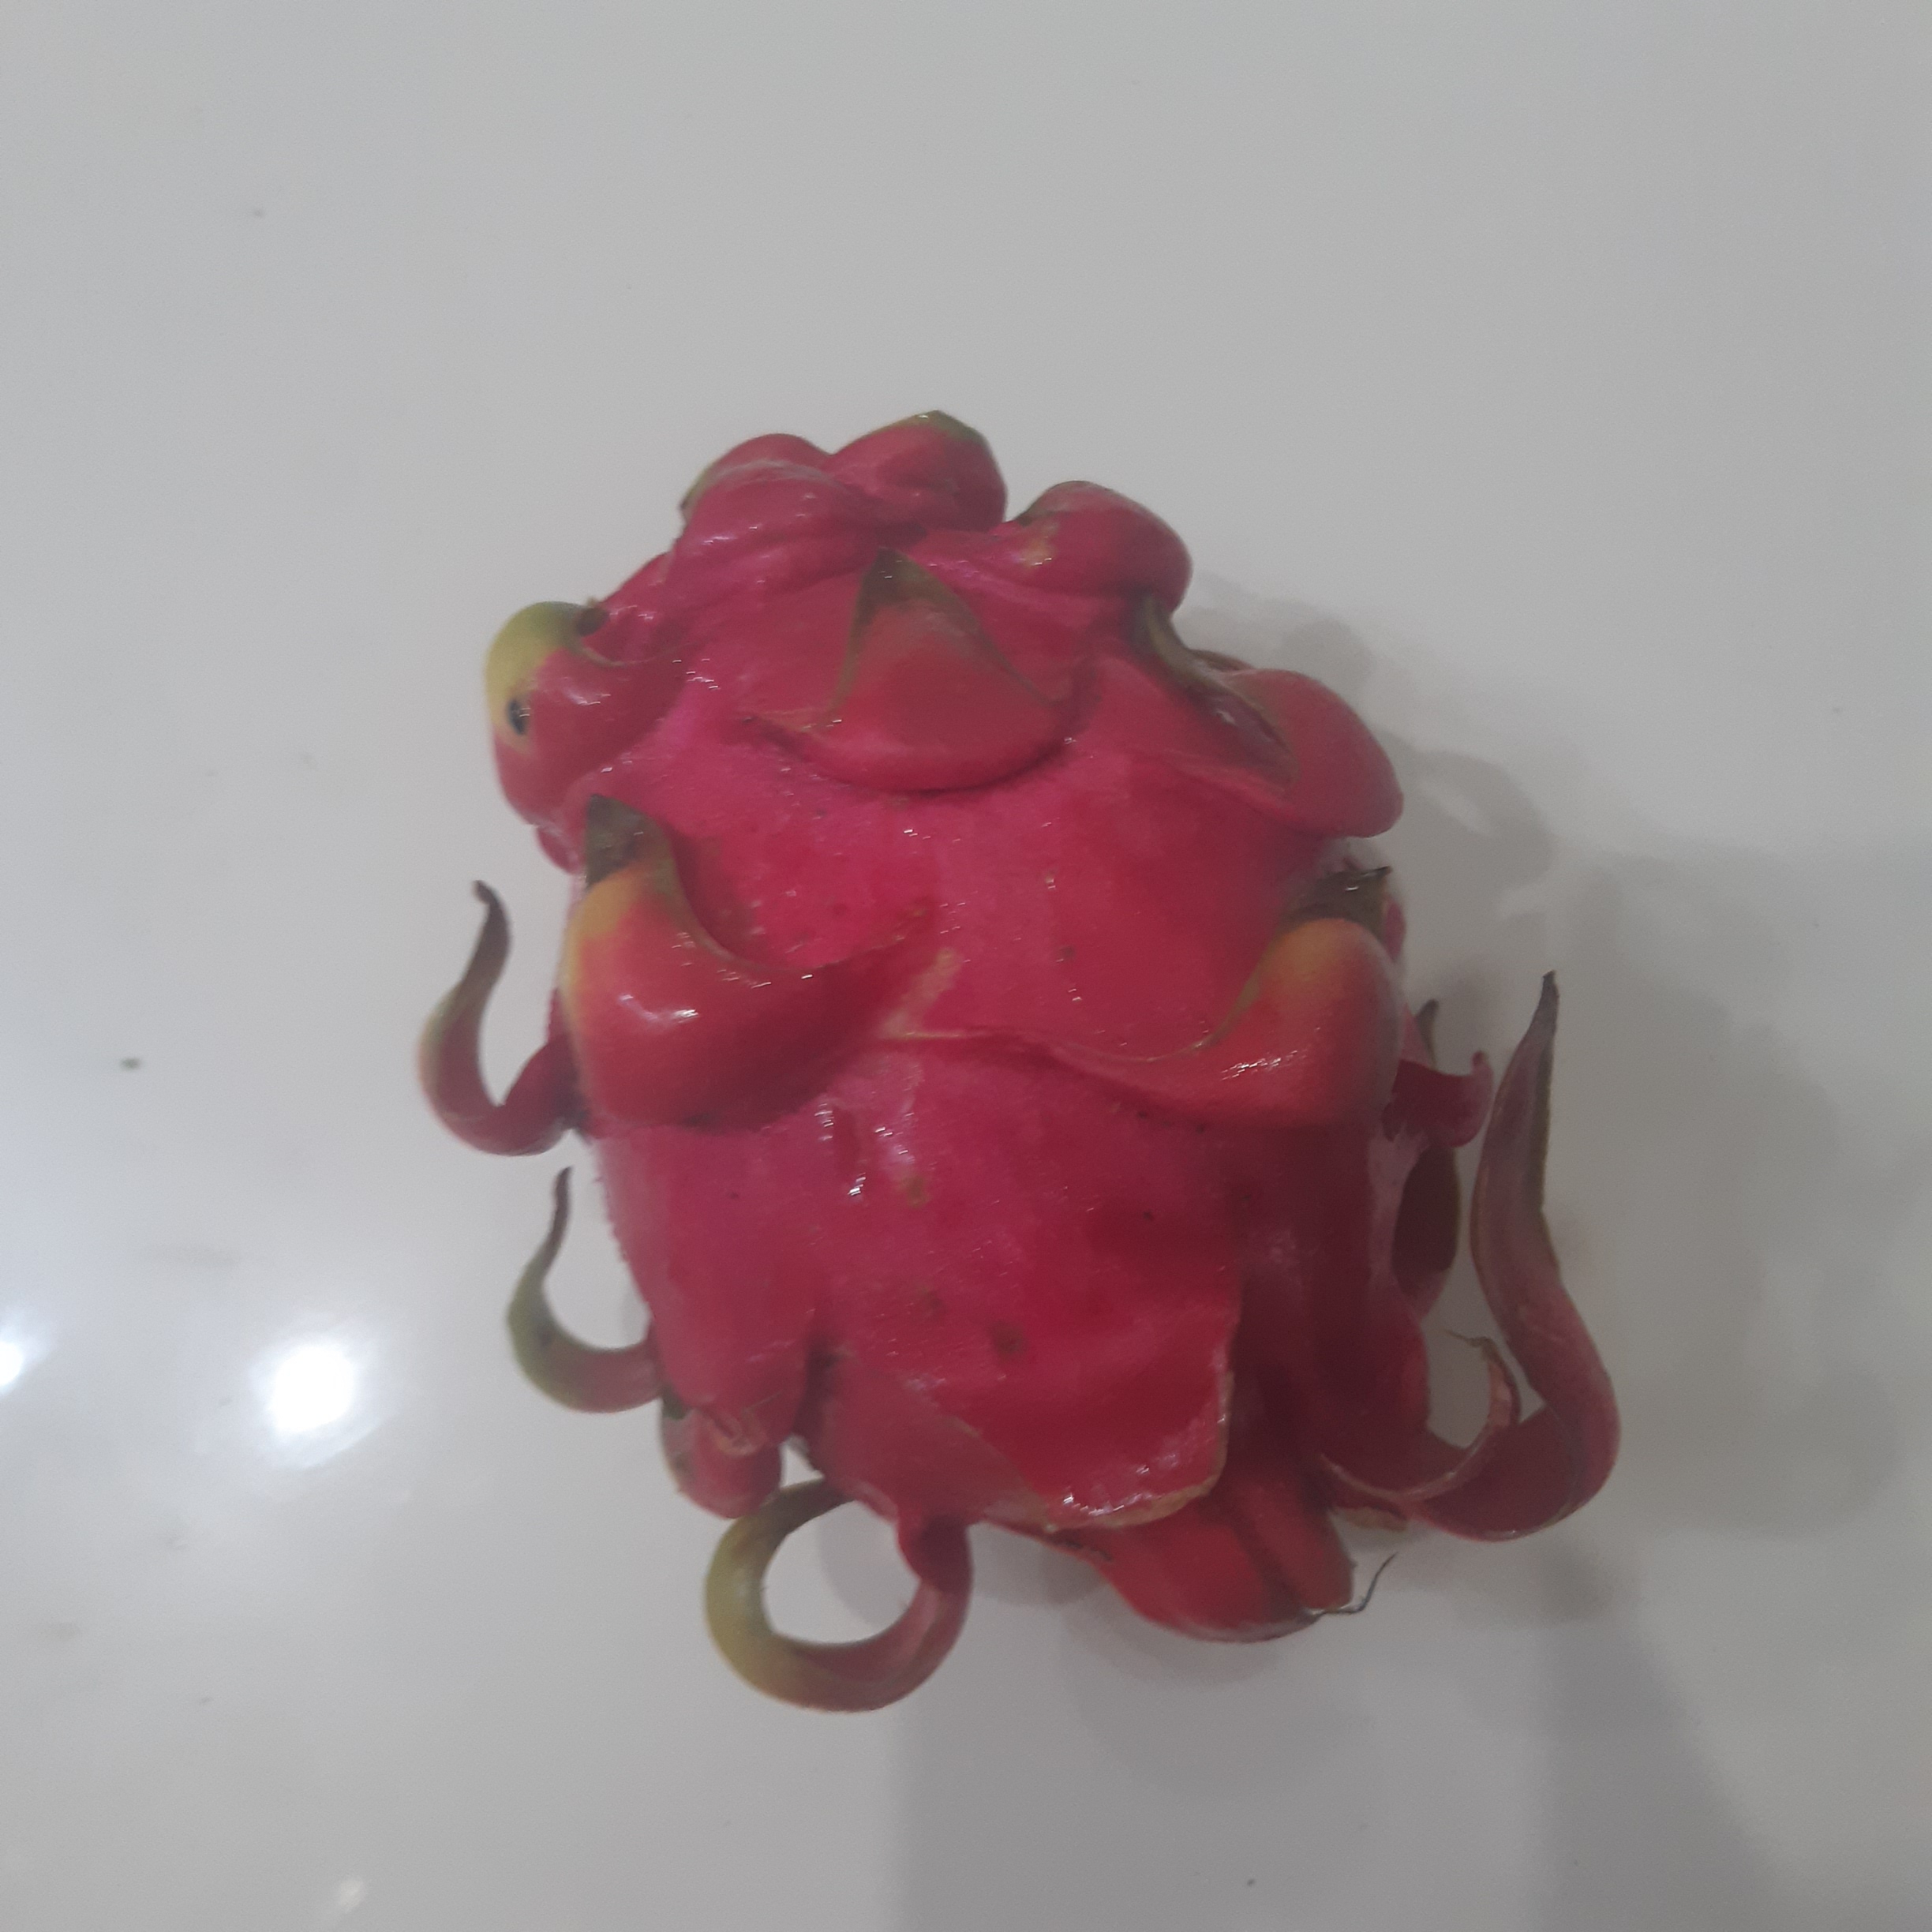Thanh long: (501, 435, 1483, 1672)
